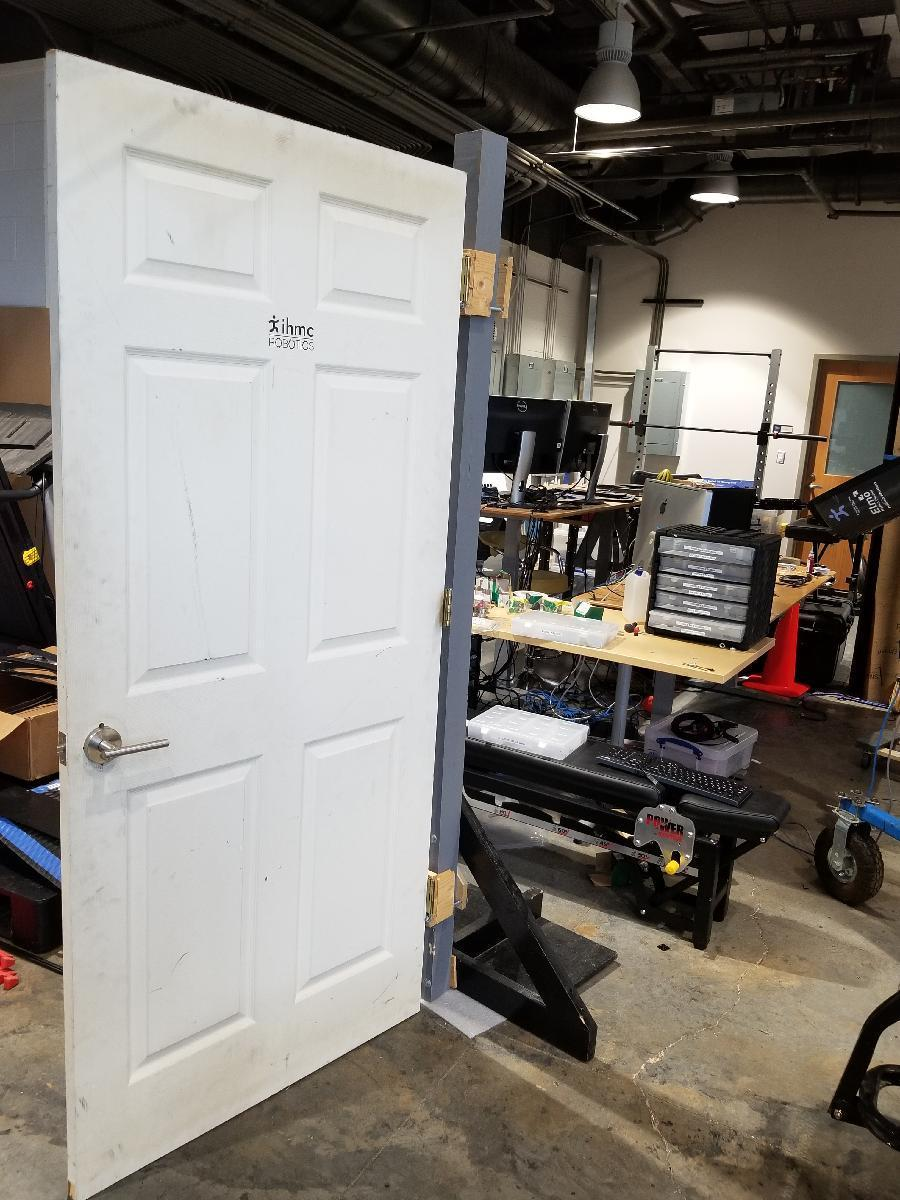door: (39, 51, 448, 1160)
handle: (78, 718, 170, 773)
